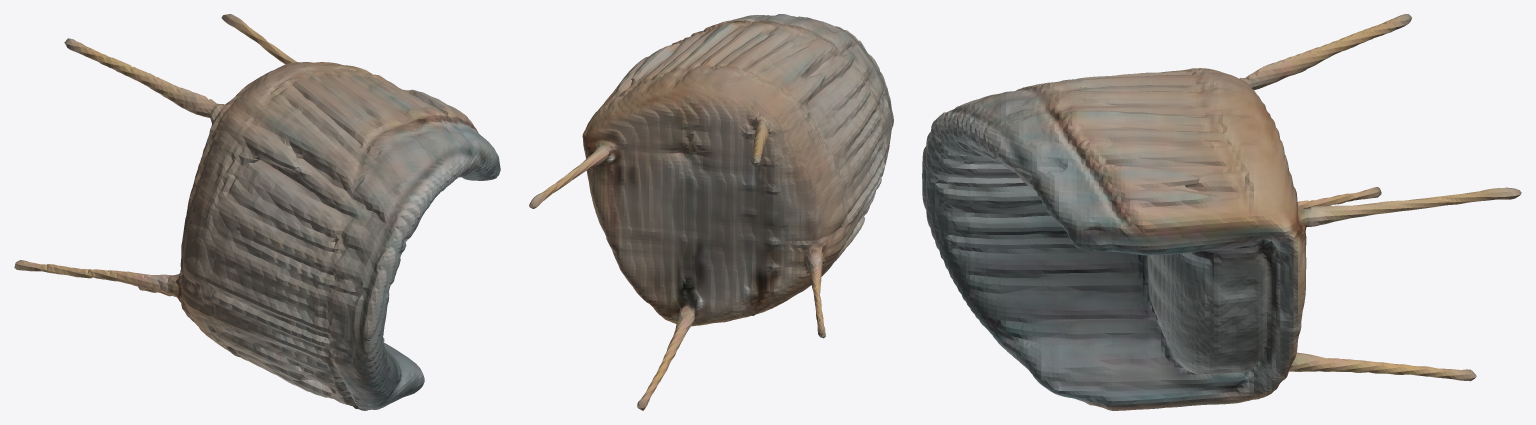
3 renders of one model, left to right at view 1: azimuth 30°, elevation 25°; view 2: azimuth 150°, elevation 25°; view 3: azimuth 270°, elevation 25°, orthographic. The views are drawn at different scales.
Visible parts, largest first — view 1: world; view 2: world; view 3: world.
Boxes of the visible parts, x1=… form: world: x1=14, y1=14, x2=500, y2=410; world: x1=529, y1=14, x2=893, y2=410; world: x1=922, y1=14, x2=1521, y2=410.
Bounding box in the file's own units: 0.6547 × 0.5401 × 0.924.
